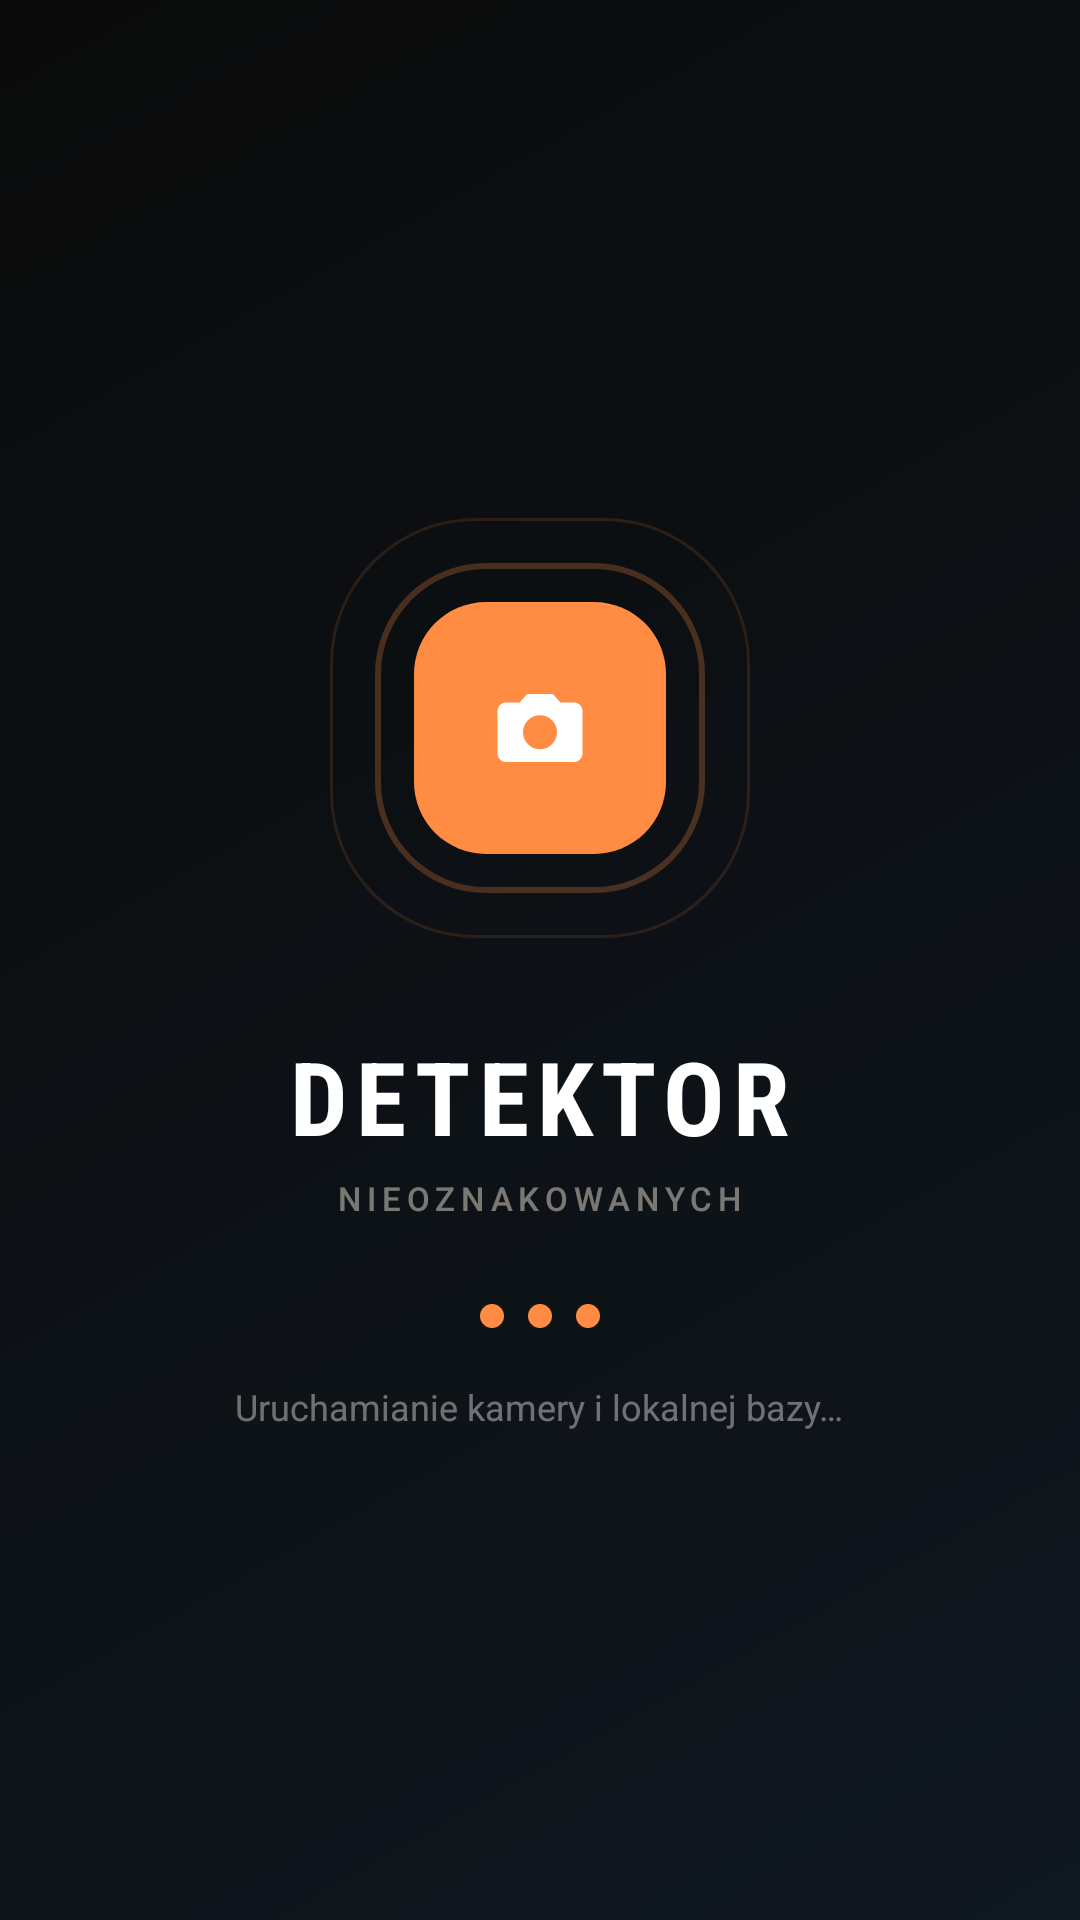

Screen size 1080x1920. Icon name, then its center in pixels as (x,y):
camera mark: (540,728)
